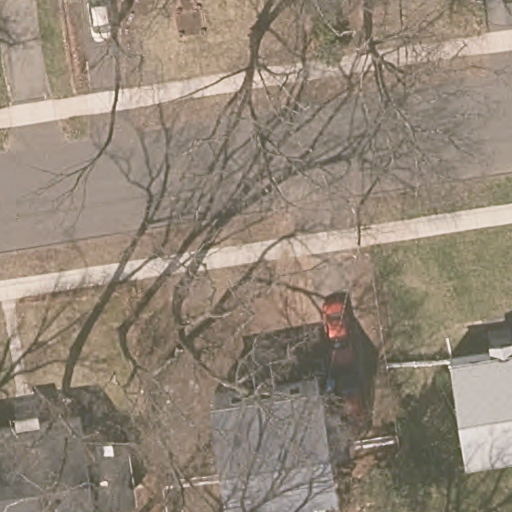DT: (347, 206, 377, 247)
